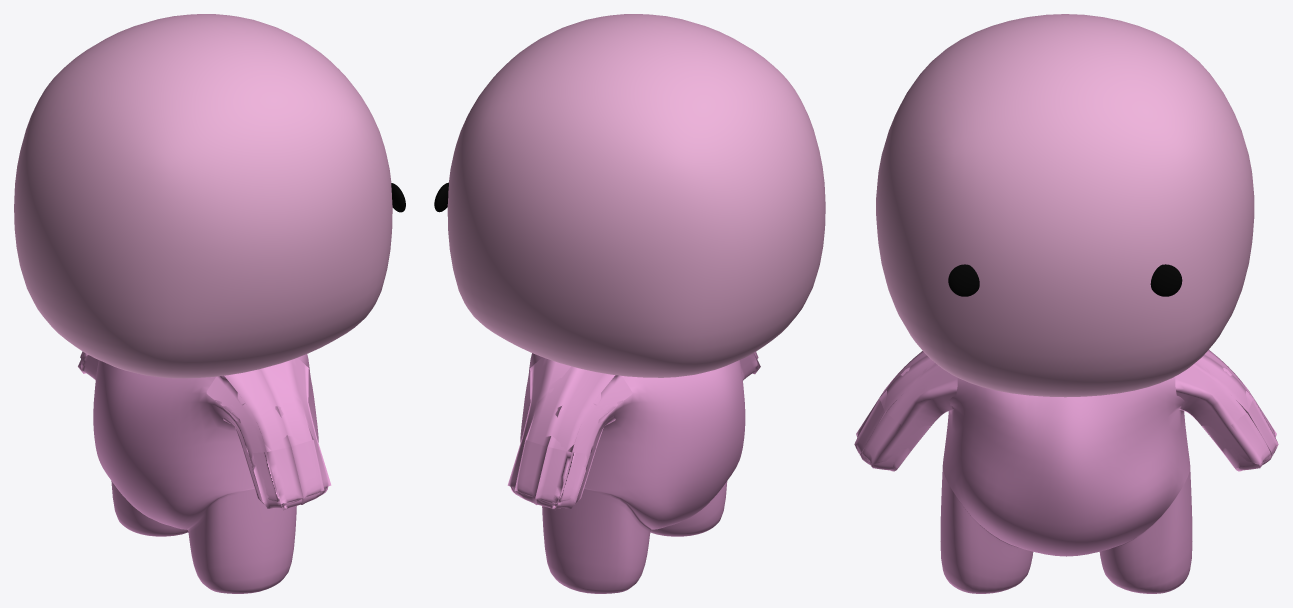
File: player2.glb
3 renders of one model, left to right at view 1: azimuth 30°, elevation 25°; view 2: azimuth 150°, elevation 25°; view 3: azimuth 270°, elevation 25°, orthographic. The views are drawn at different scales.
Parts seen in each view (by area): view 1: Cube, Cube.001; view 2: Cube, Cube.001; view 3: Cube, Cube.001, Sphere.
Boxes of the visible parts, bbox=[...] form: Cube: bbox=[14, 14, 392, 378]; Cube.001: bbox=[78, 351, 331, 593]; Cube: bbox=[447, 14, 825, 377]; Cube.001: bbox=[507, 352, 760, 593]; Cube: bbox=[876, 14, 1254, 397]; Cube.001: bbox=[854, 350, 1278, 593]; Sphere: bbox=[948, 264, 1182, 296].
Bounding box in the file's own units: 1.3 × 1.99 × 1.41.
